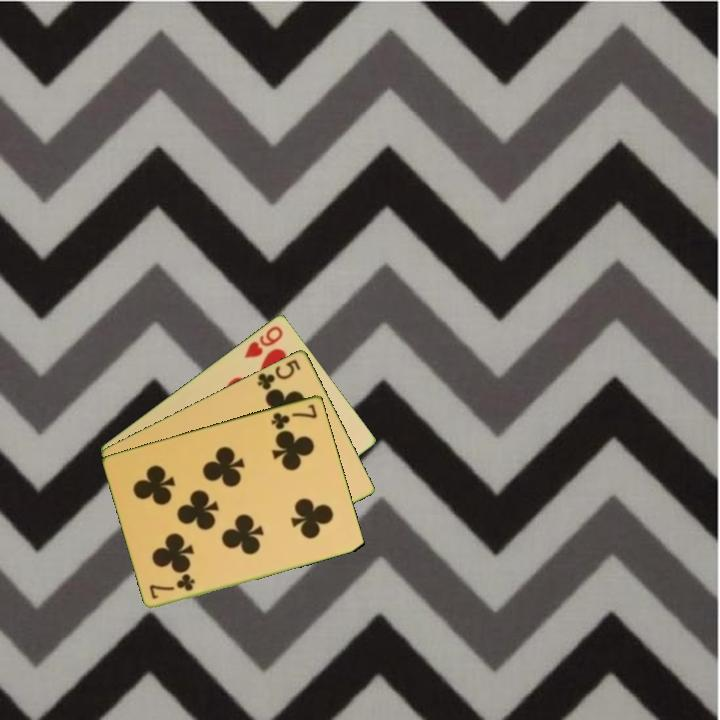5c: (253, 355, 304, 395)
7c: (268, 400, 320, 432), (146, 572, 198, 601)
9h: (241, 322, 286, 361)
